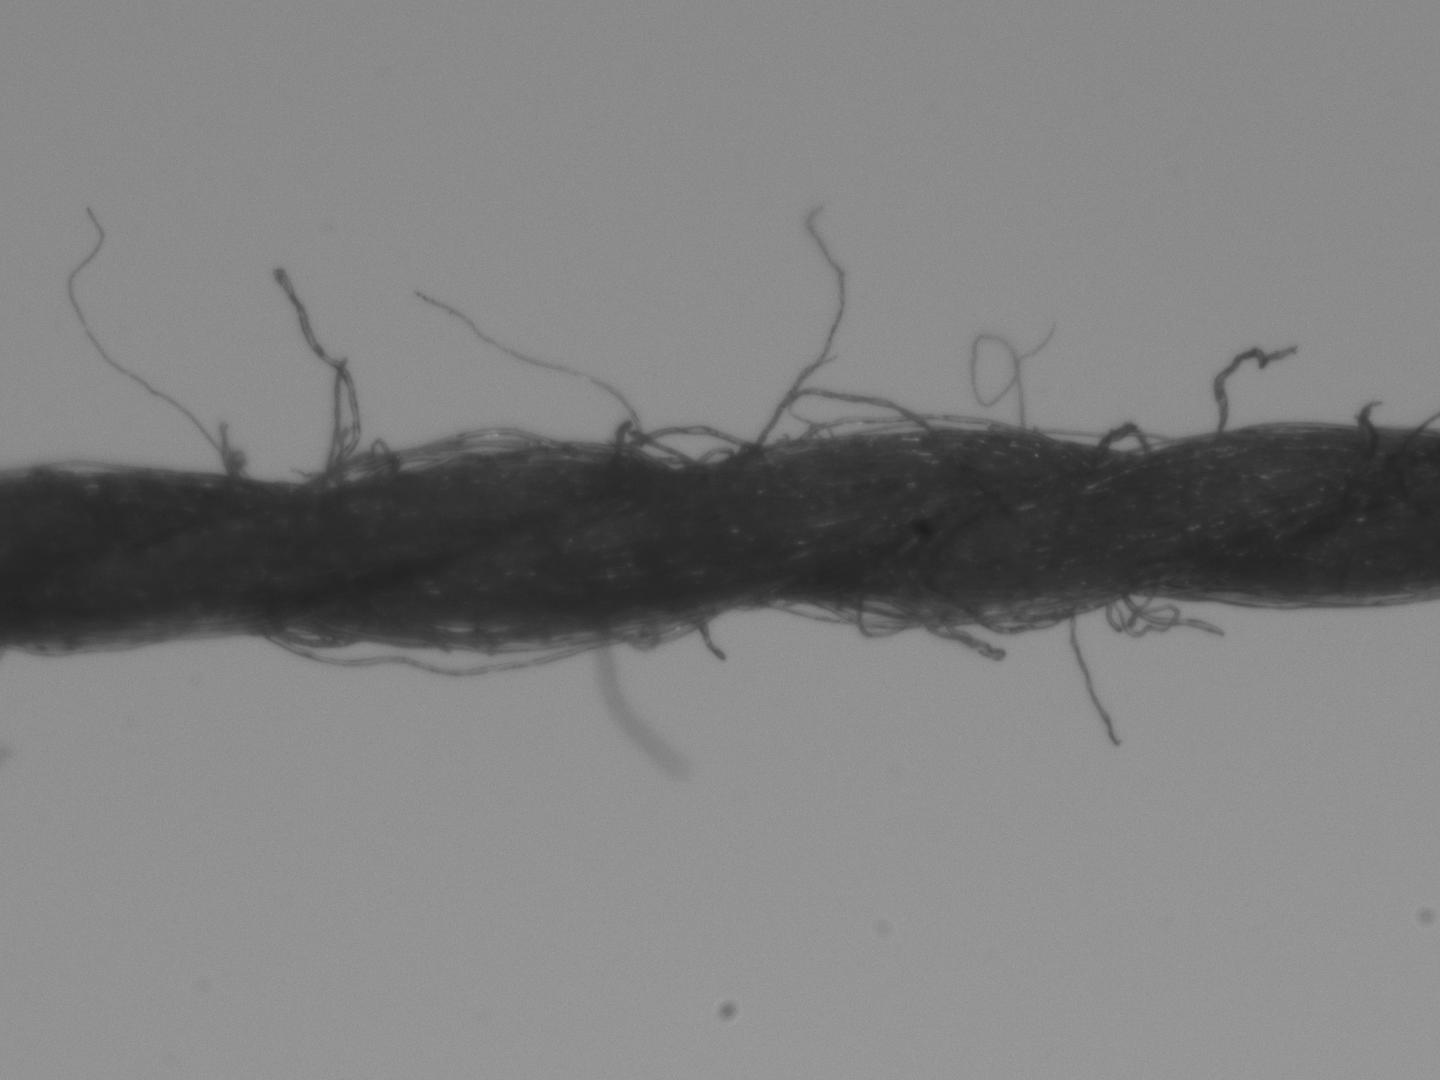loop_fiber: (259, 631, 610, 682), (316, 425, 576, 481), (798, 410, 1006, 446), (633, 424, 755, 465), (615, 611, 714, 647), (974, 607, 1054, 640), (762, 596, 848, 626), (856, 596, 908, 640), (1094, 419, 1158, 453)
protruding_fiber: (68, 205, 229, 474), (756, 202, 845, 446), (1209, 343, 1297, 438), (1068, 608, 1119, 745), (320, 354, 351, 484), (695, 613, 726, 663)
